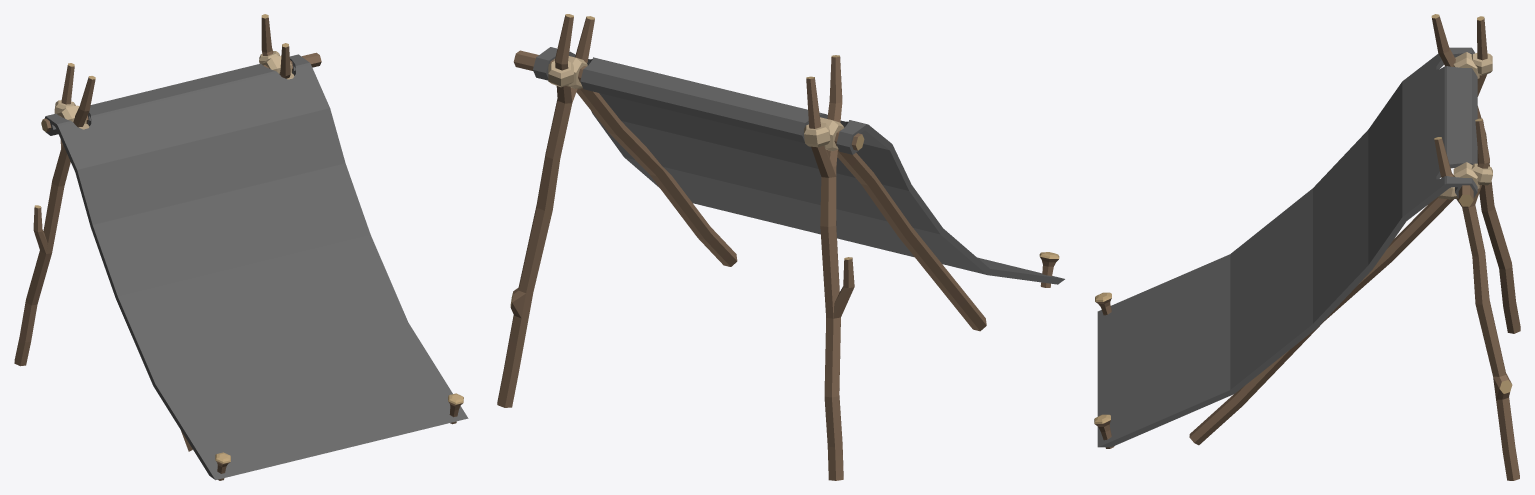
File: Hilly_Prop_Camp_Lean_To.glb
The picture shows the model from 3 angles, left to right: view 1: azimuth 30°, elevation 25°; view 2: azimuth 150°, elevation 25°; view 3: azimuth 270°, elevation 25°; orthographic projection. The views are drawn at different scales.
Parts seen in each view (by area): view 1: Hilly_Prop_Camp_Lean_To; view 2: Hilly_Prop_Camp_Lean_To; view 3: Hilly_Prop_Camp_Lean_To.
Boxes of the visible parts, <box> form: Hilly_Prop_Camp_Lean_To: <box>14,14,468,480</box>; Hilly_Prop_Camp_Lean_To: <box>497,14,1064,480</box>; Hilly_Prop_Camp_Lean_To: <box>1094,14,1520,480</box>.
Bounding box in the file's own units: 1.37 × 1.44 × 1.64.
